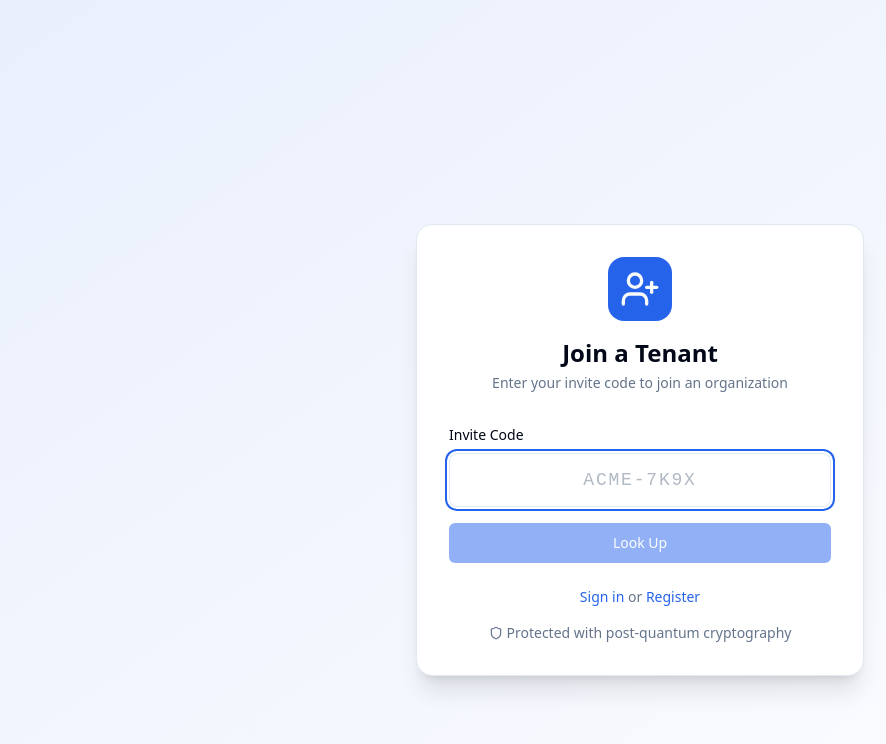
Test: JoinTenantPage › should show error for invalid code (404)
Type "INVALID" into the field with placeholder "ACME-7K9X".
click(640, 480); type("INVALID")  # box [449, 453, 831, 507]
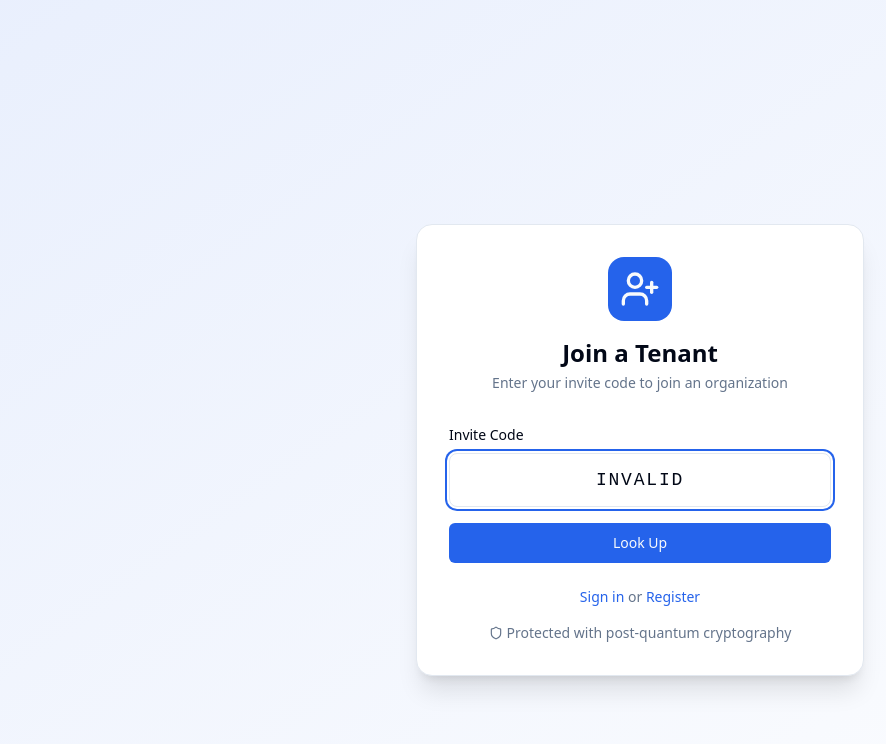
Click the button "Look Up".
click(640, 543)  # box [449, 523, 831, 563]
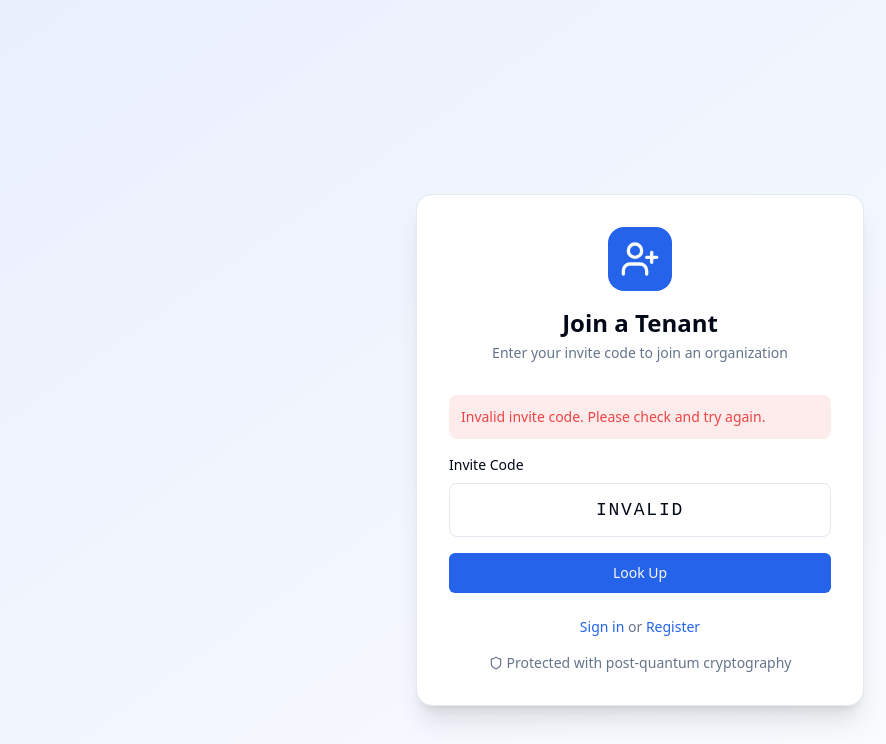
Result: the text "Invalid invite code. Please check and try again." is shown at [449, 395, 831, 439]
